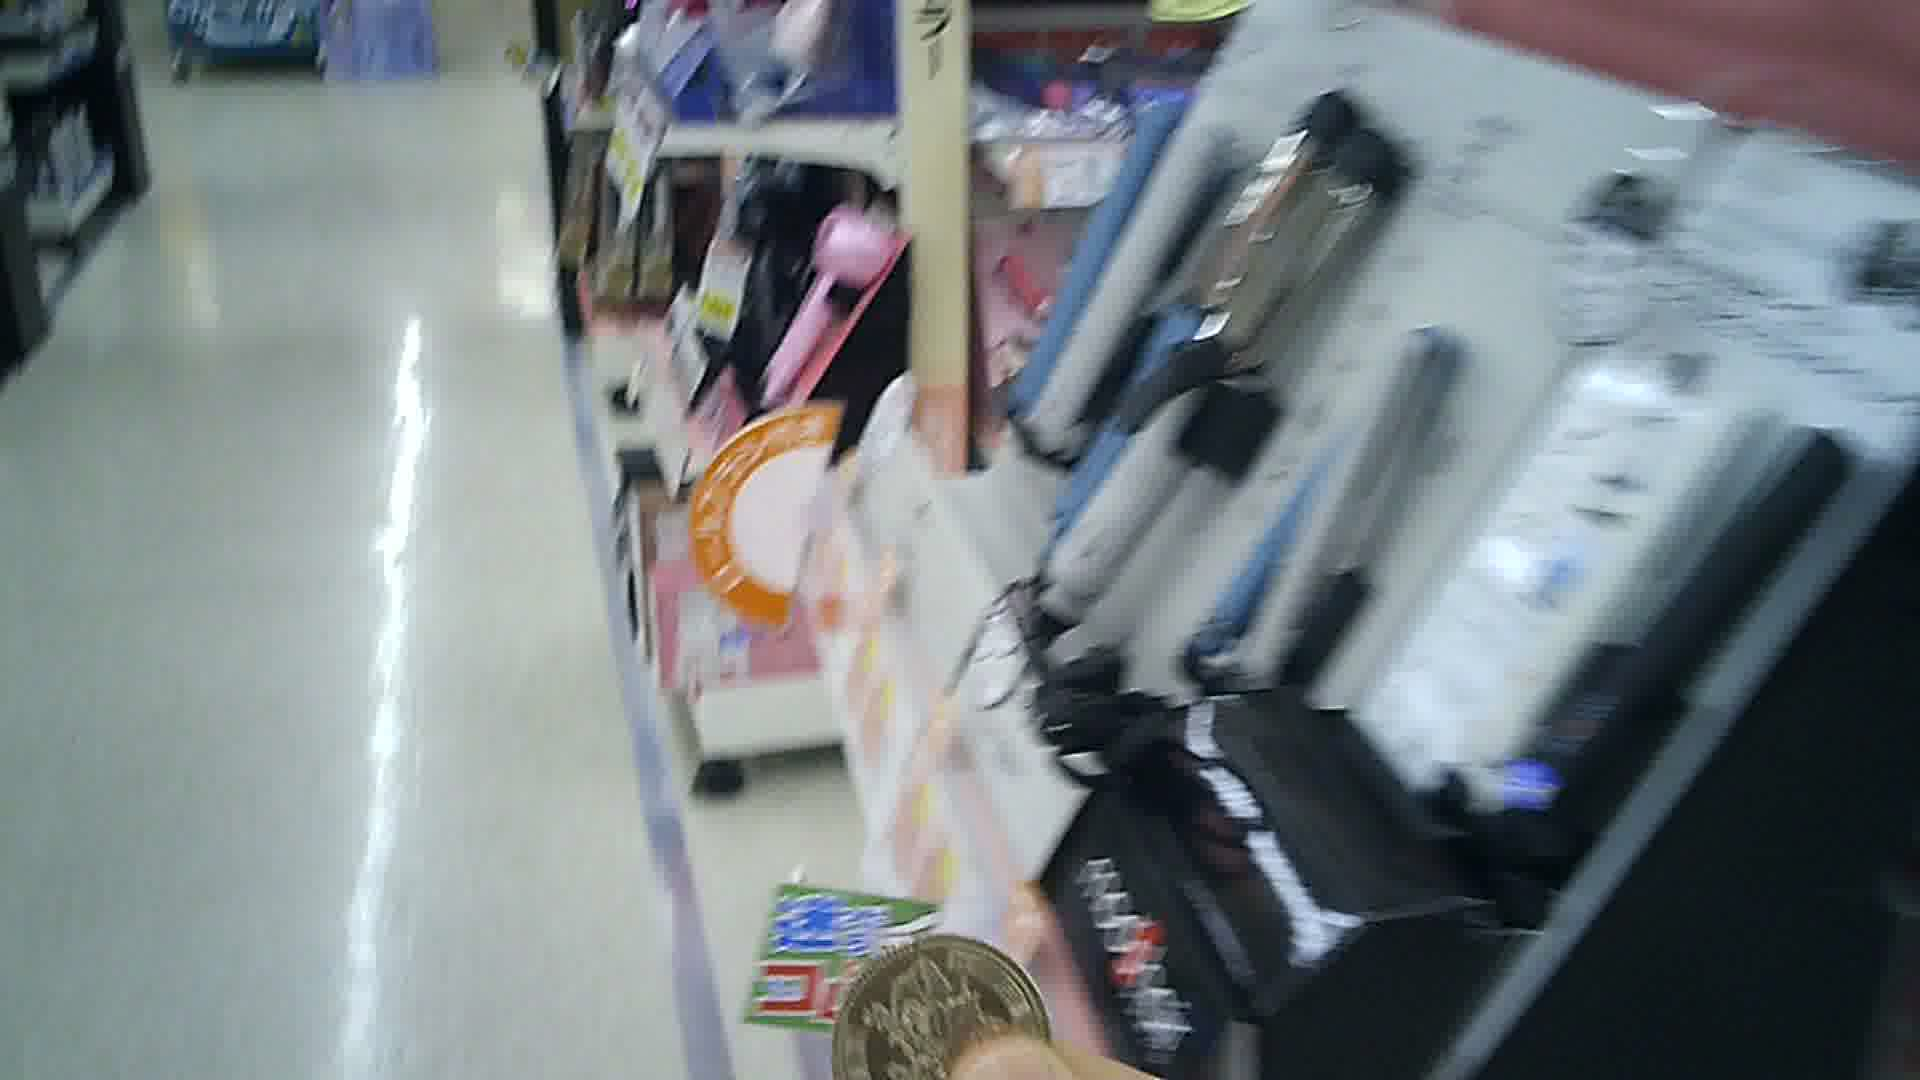500 Yen: (825, 934, 1055, 1079)
